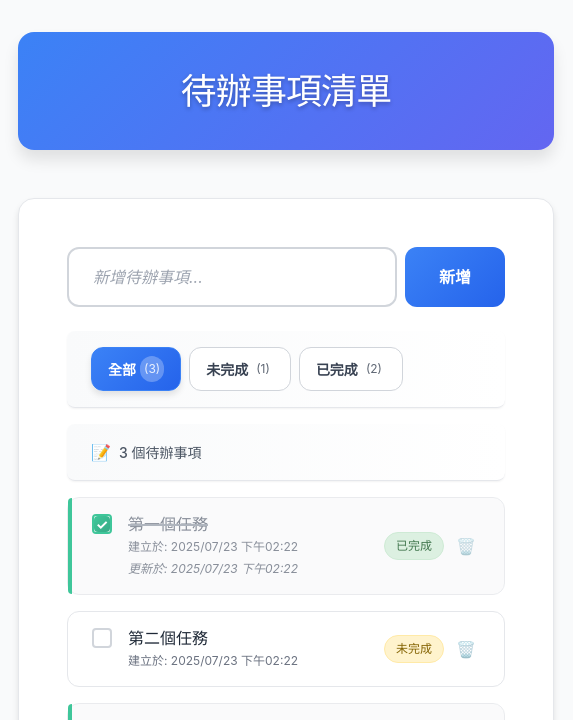
Test: Data Persistence Integration Tests › State Persistence Across Sessions › should handle storage quota exceeded gracefully
Type "測試任務" into the field with placeholder "新增待辦事項..." at x=232, y=277, box [67,247,397,307]
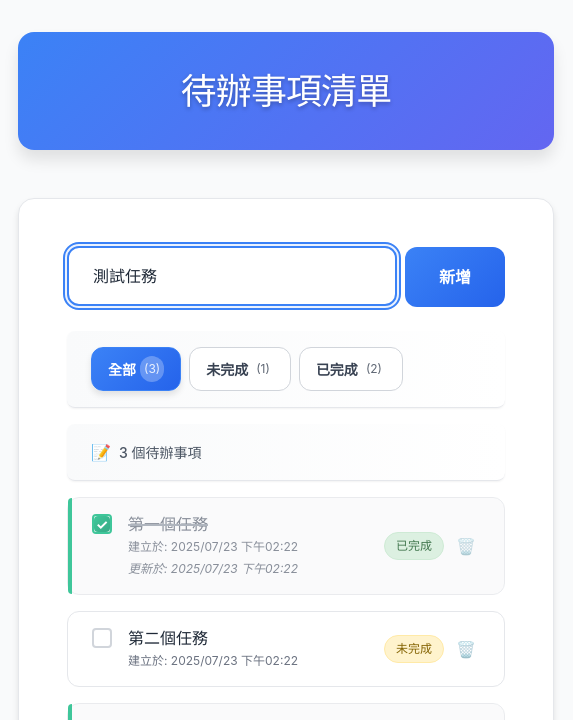
Click the button with aria-label "新增待辦事項" at x=455, y=277, box [405,247,505,307]
(page scrolled)
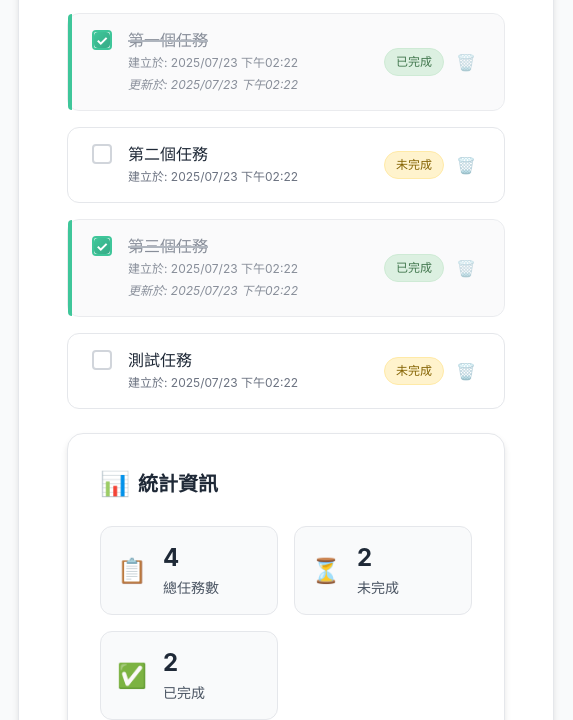
Result: the text "測試任務" is shown at [128,350,192,370]
